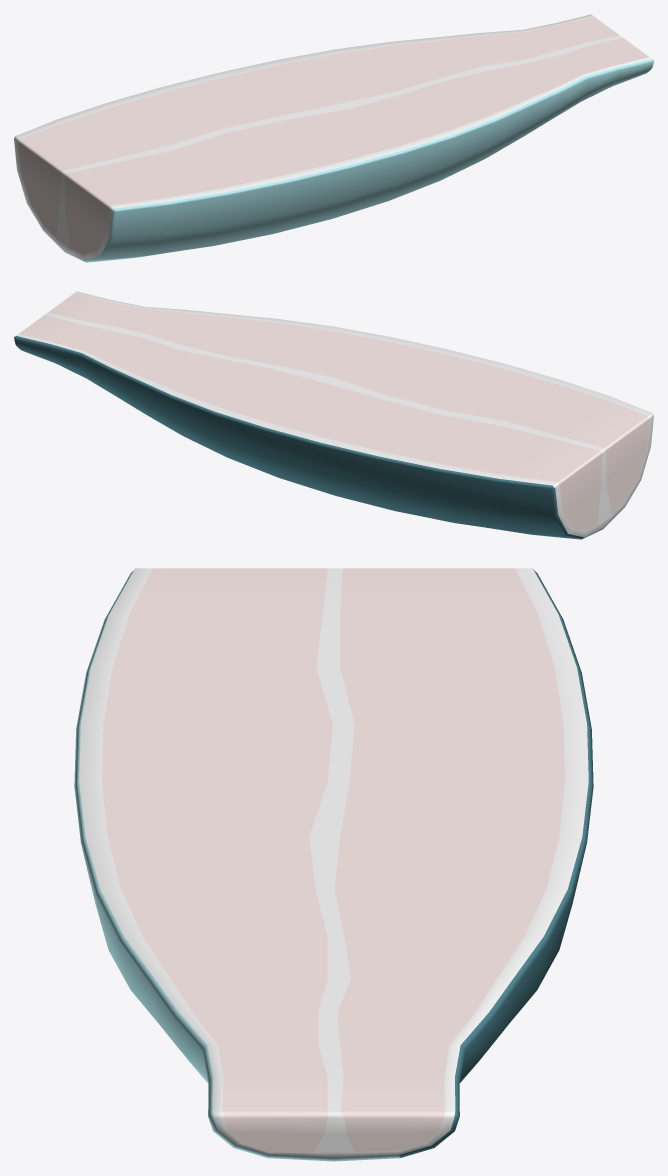
The model's file is SeaBass_1_Fillet_1.fbx.
3 views of the same model, one above another, from view 1: azimuth 30°, elevation 25°; view 2: azimuth 150°, elevation 25°; view 3: azimuth 270°, elevation 25° (orthographic). The views are drawn at different scales.
Visible parts, largest first — view 1: SeaBass_1_Fillet_1; view 2: SeaBass_1_Fillet_1; view 3: SeaBass_1_Fillet_1.
Boxes of the visible parts, x1,y1,x2,y2 form: SeaBass_1_Fillet_1: (14,14,653,262); SeaBass_1_Fillet_1: (14,291,653,539); SeaBass_1_Fillet_1: (74,568,593,1161).
Size of the model in its own units: 68.79 by 10.48 by 27.59.
